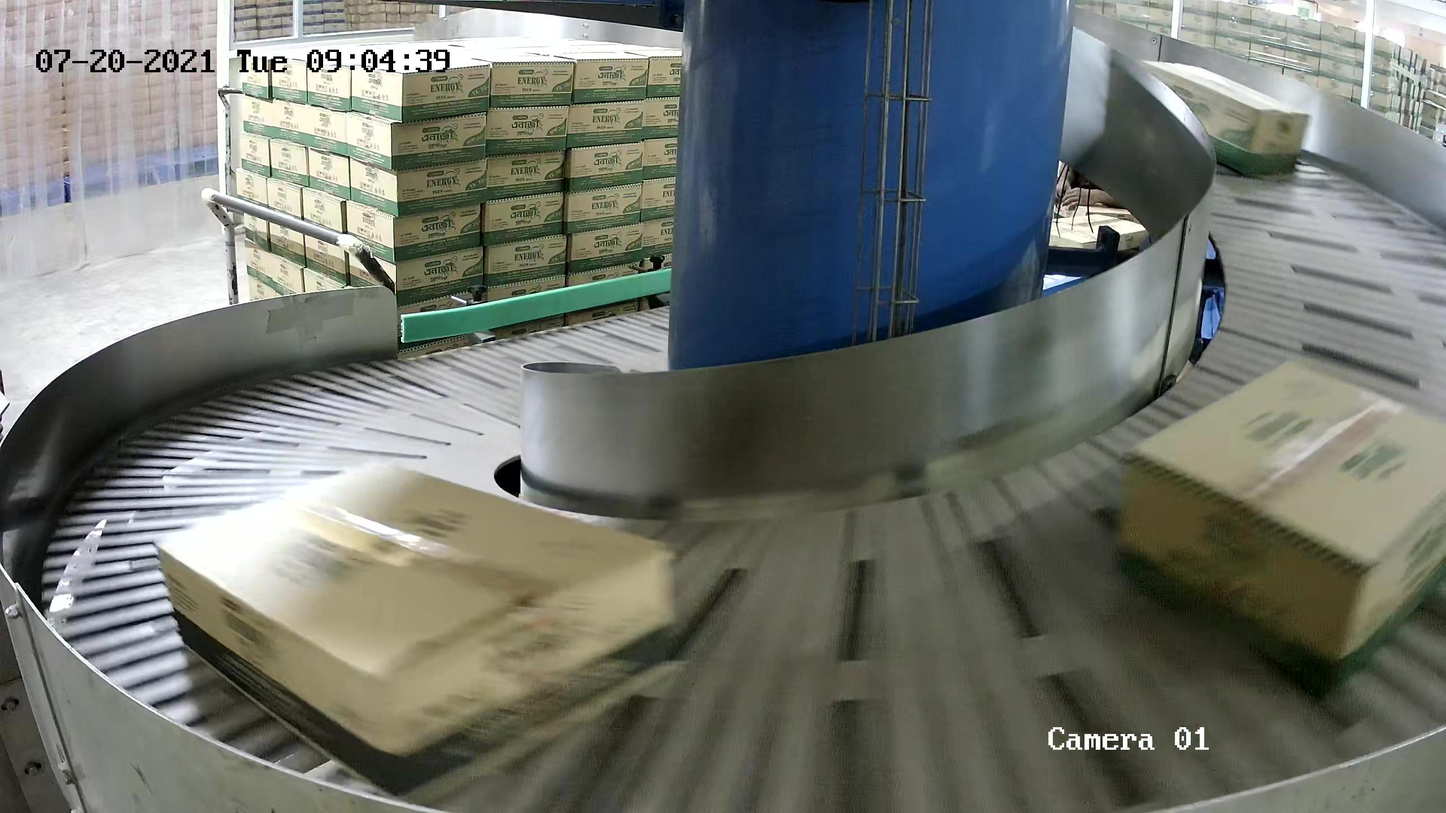Box: (152, 451, 691, 812), (1113, 353, 1446, 700), (1134, 58, 1313, 178)
